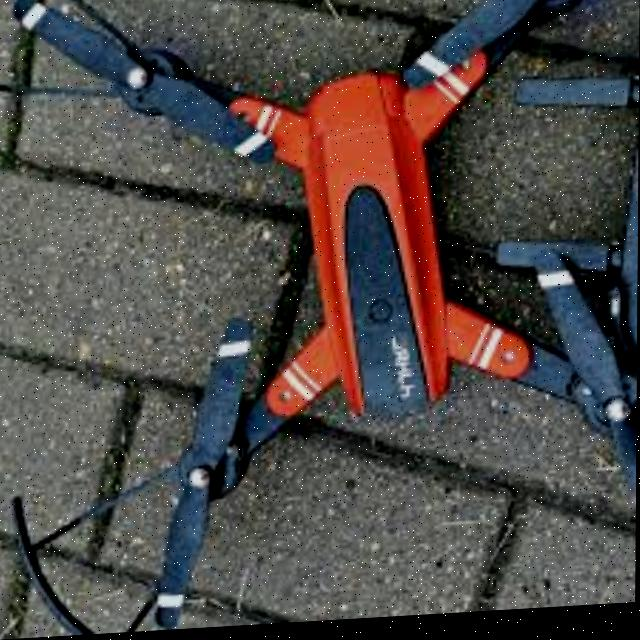drone: (37, 0, 640, 592)
